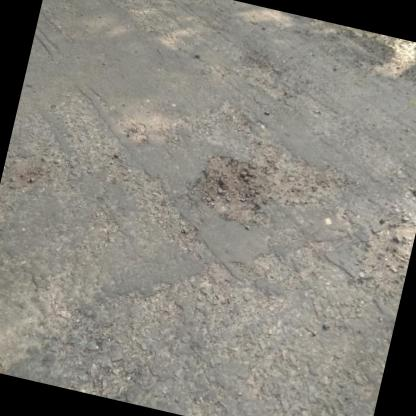pothole: (183, 146, 272, 227)
